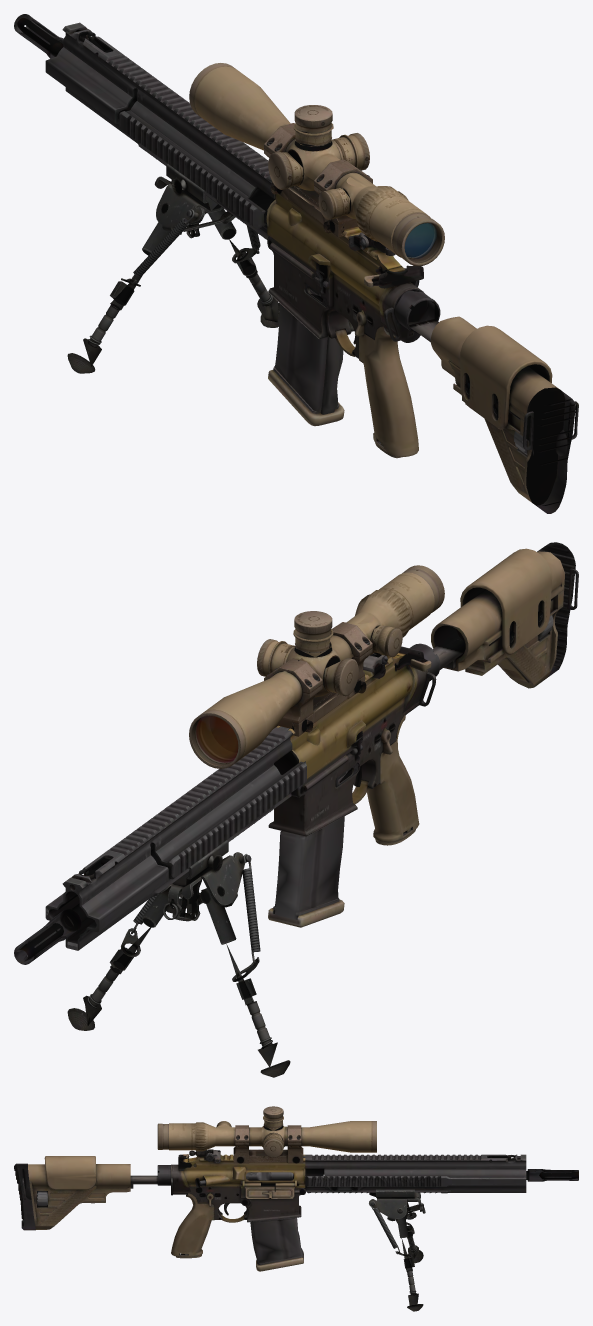
File: marshal.glb
3 renders of one model, top to bottom at view 1: azimuth 30°, elevation 25°; view 2: azimuth 150°, elevation 25°; view 3: azimuth 270°, elevation 25°, orthographic. The views are drawn at different scales.
Parts seen in each view (by area): view 1: Object_4, Object_10, Object_12, Object_6, Object_16; view 2: Object_4, Object_10, Object_12, Object_6, Object_14; view 3: Object_4, Object_10, Object_12, Object_6, Object_8.
Part boxes in pixels (bbox=[...]): Object_4: bbox=[14, 14, 578, 513]; Object_10: bbox=[189, 63, 444, 266]; Object_12: bbox=[67, 164, 279, 373]; Object_6: bbox=[268, 289, 344, 426]; Object_16: bbox=[405, 223, 436, 258]; Object_4: bbox=[14, 542, 578, 964]; Object_10: bbox=[189, 565, 444, 768]; Object_12: bbox=[67, 840, 290, 1077]; Object_6: bbox=[268, 771, 347, 927]; Object_14: bbox=[196, 716, 237, 762]; Object_4: bbox=[14, 1149, 578, 1258]; Object_10: bbox=[157, 1106, 376, 1163]; Object_12: bbox=[369, 1189, 425, 1311]; Object_6: bbox=[250, 1217, 303, 1271]; Object_8: bbox=[246, 1172, 293, 1180].
Bounding box in the file's own units: 0.2341 × 0.3439 × 1.
Materials: 6 (6 with a texture image).
